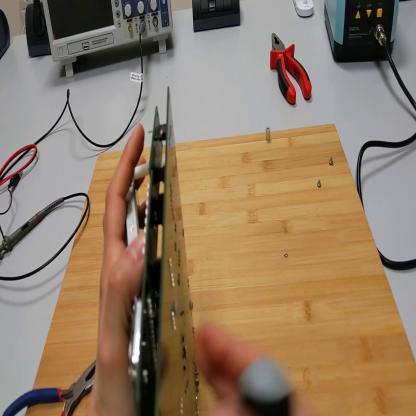hand: (88, 123, 159, 415), (192, 323, 309, 416)
low voltage board: (126, 87, 199, 415)
oscilloscope: (42, 3, 175, 72)
oscilloscope probe tip: (2, 197, 67, 259)
pliers: (4, 360, 98, 413), (269, 33, 313, 107)
screwdriver-: (241, 356, 294, 415)
socket: (26, 4, 52, 57), (2, 8, 13, 59)
welder station: (324, 2, 399, 63)
working area: (30, 125, 416, 414)
